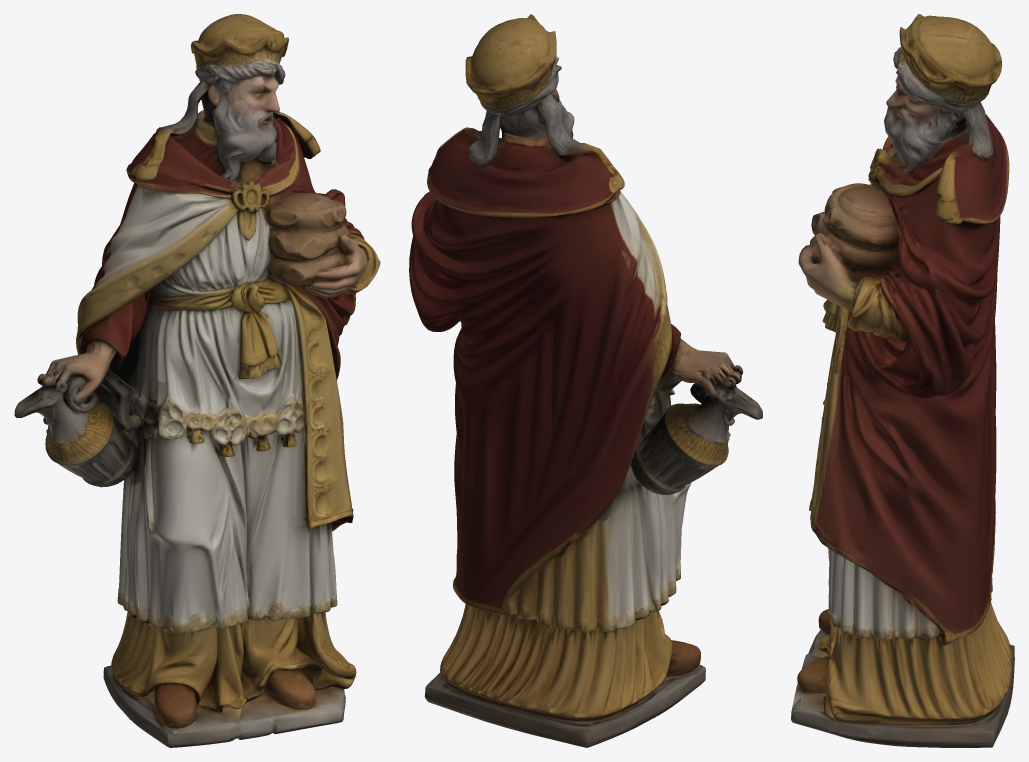
Rendered from melchizedek.glb.
3 views of the same model, side by side, from view 1: azimuth 30°, elevation 25°; view 2: azimuth 150°, elevation 25°; view 3: azimuth 270°, elevation 25° (orthographic). The views are drawn at different scales.
Visible parts, largest first — view 1: node_0; view 2: node_0; view 3: node_0.
Part boxes in pixels (x1=…): node_0: x1=14, y1=14, x2=380, y2=747; node_0: x1=409, y1=14, x2=762, y2=747; node_0: x1=791, y1=14, x2=1014, y2=747.
Size of the model in its own units: 0.5937 by 1.09 by 0.3199.
1 material, 1 textured.
